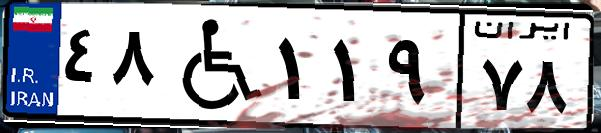1: (270, 28, 330, 110), (330, 28, 385, 110)
4: (57, 26, 110, 100)
7: (475, 38, 525, 113)
8: (525, 38, 570, 115), (110, 28, 158, 98)
9: (385, 28, 445, 110)
ژ (معلولین و جانبازان): (158, 12, 270, 120)
